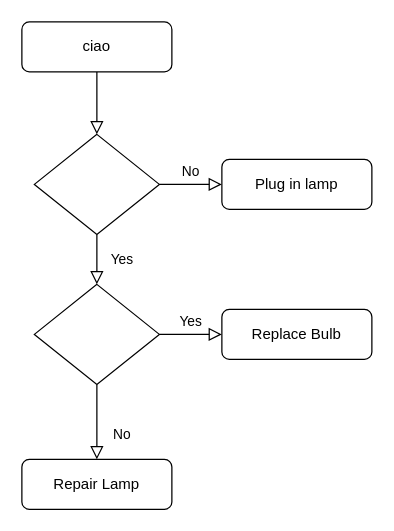
This 394x531 diagram has some shape labels left out. Each missing label, with the centre of its shape:
"Bulb burned out?" goes at (x=96, y=333).
"Lamp plugged in?" goes at (x=96, y=183).
